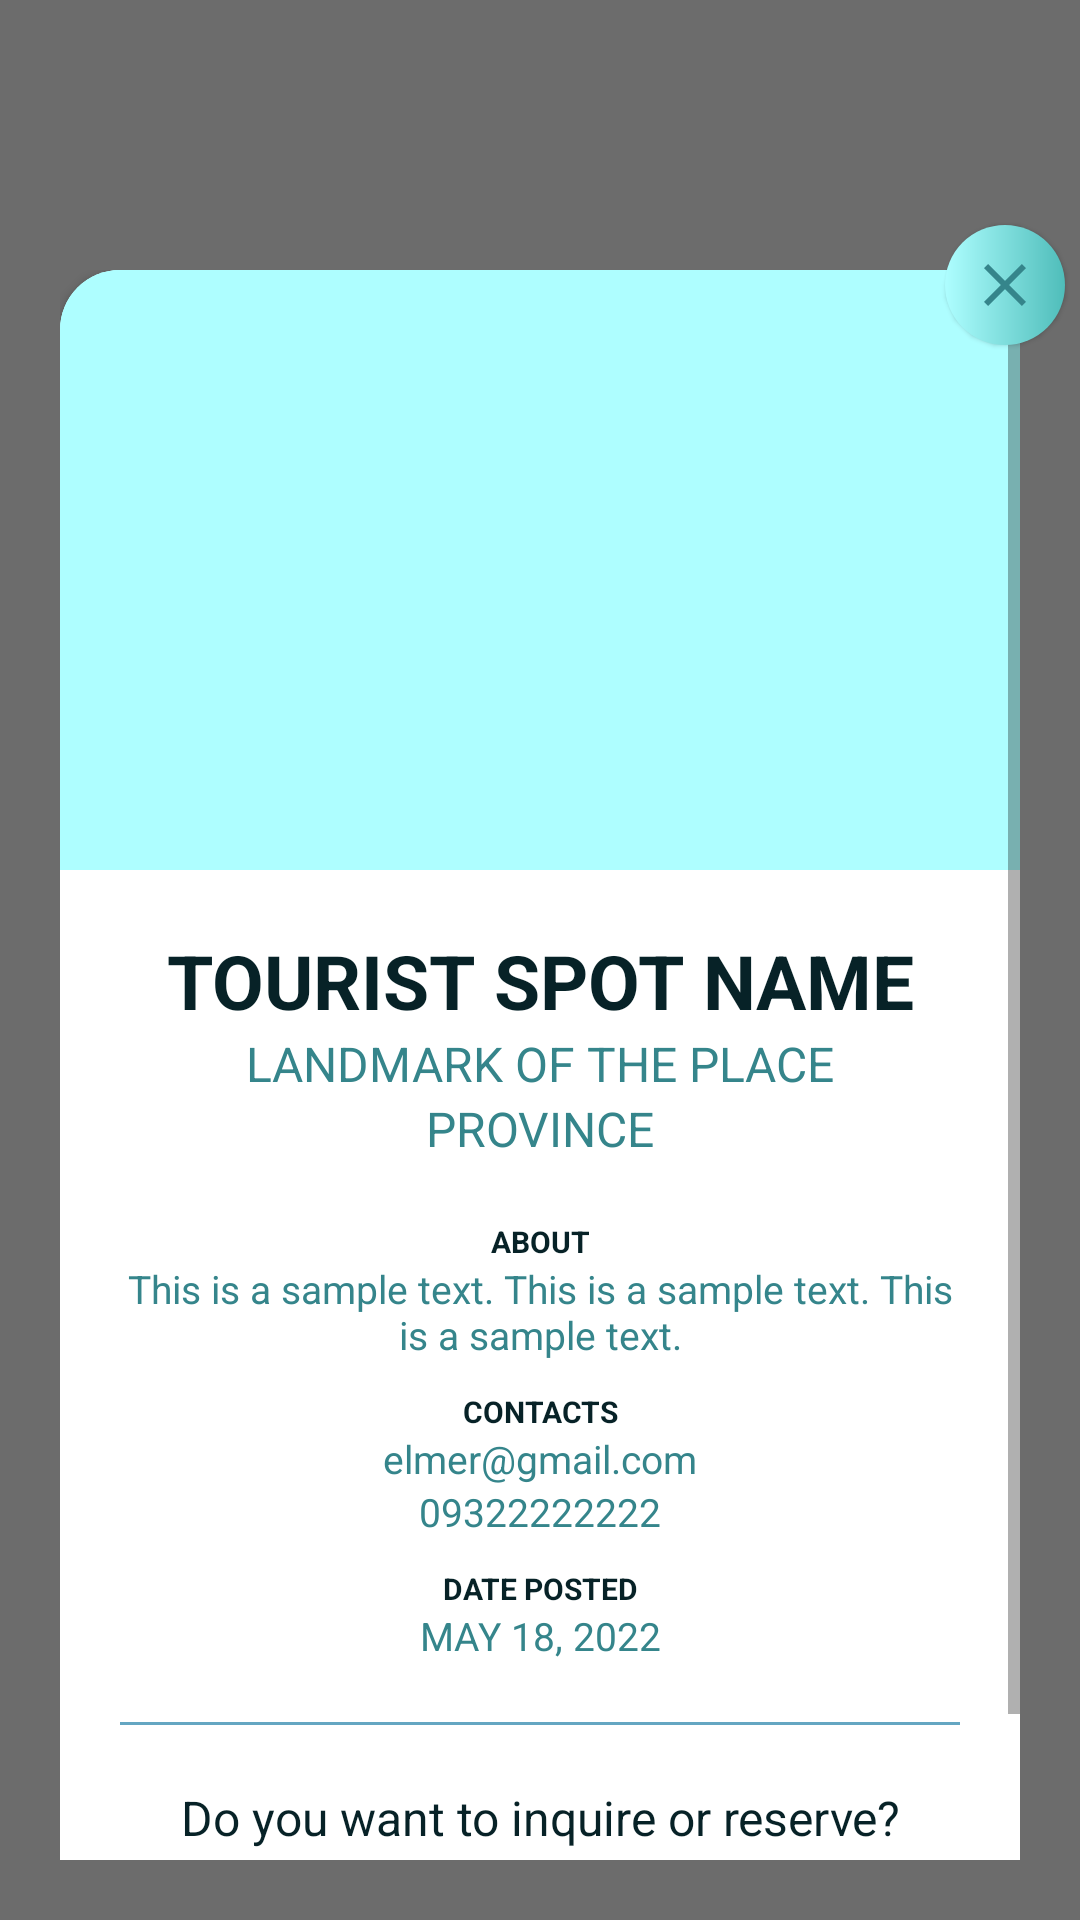

Screen size 1080px×1920px. Icon name, then its box in pixels as Rect(x1, y1, x2, y2):
close: Rect(945, 225, 1065, 345)
